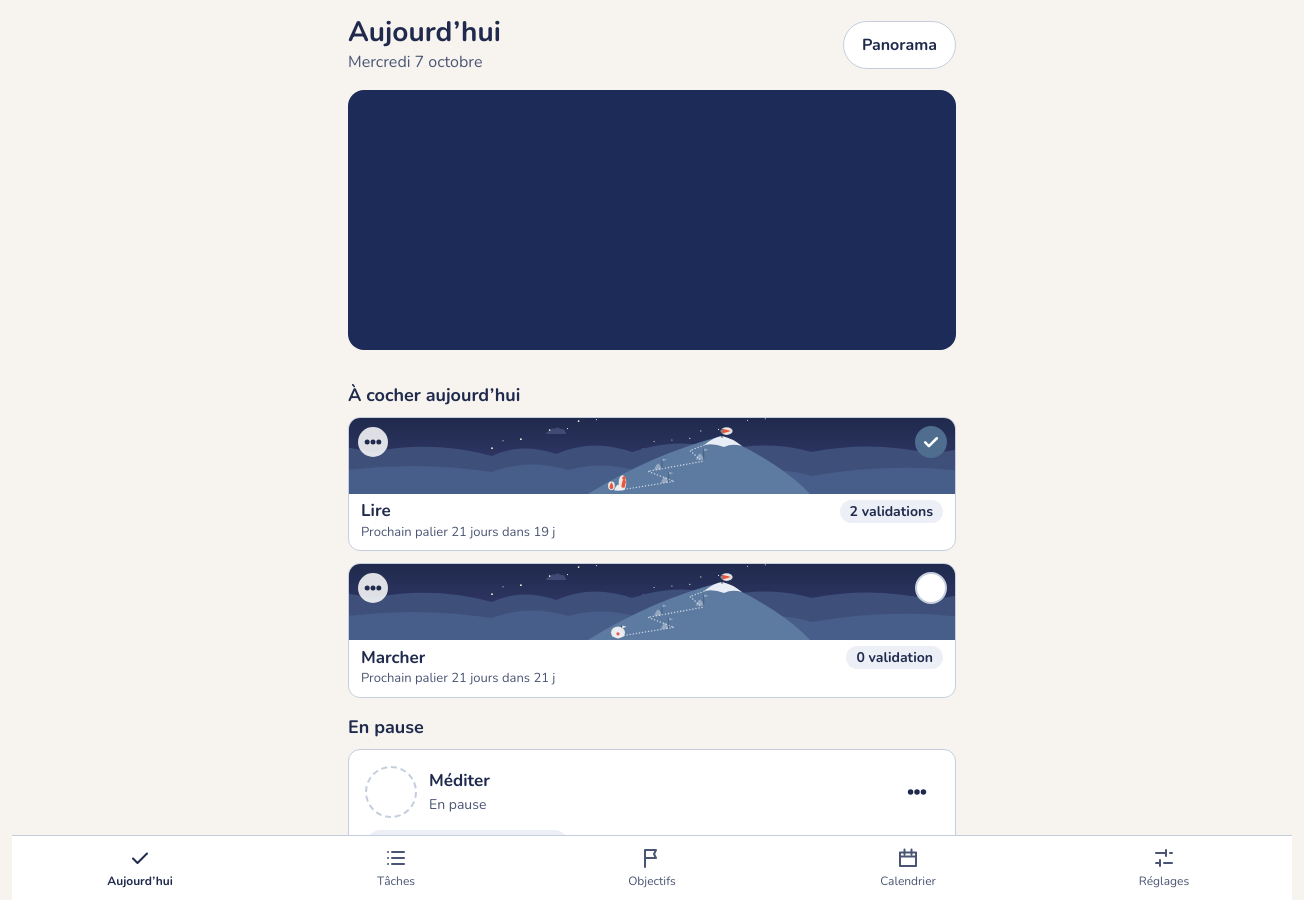
Test case: vue panorama › s’ouvre depuis « Aujourd’hui », montre toutes les habitudes en lecture seule et revient
Expected: the heading "Aujourd’hui" is shown, [348,13,501,51]
Click the button "Panorama" at (899, 45), box [843,21,956,69]
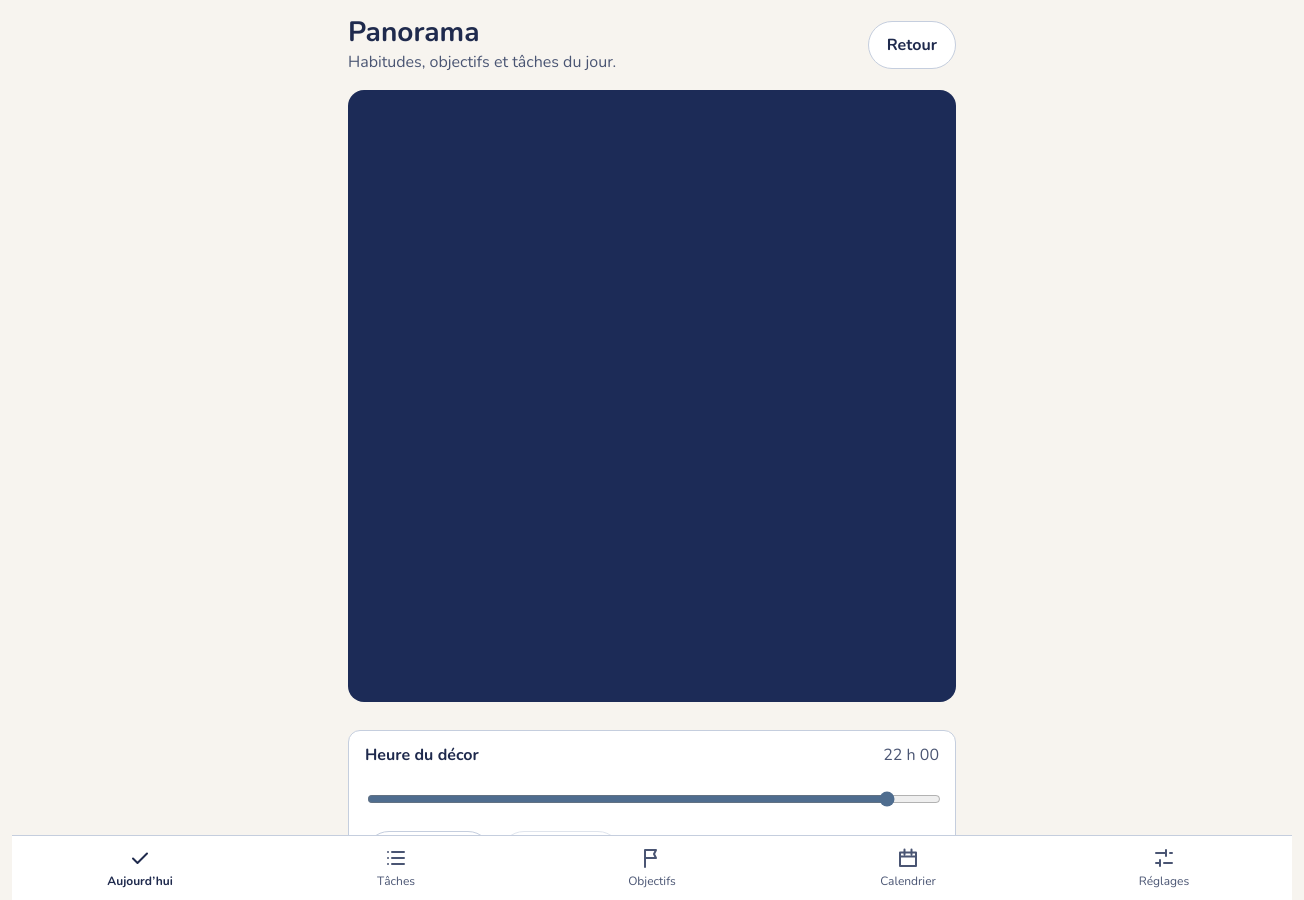
Click the button with aria-label "Retour à Aujourd’hui" at (912, 45), box [868,21,956,69]
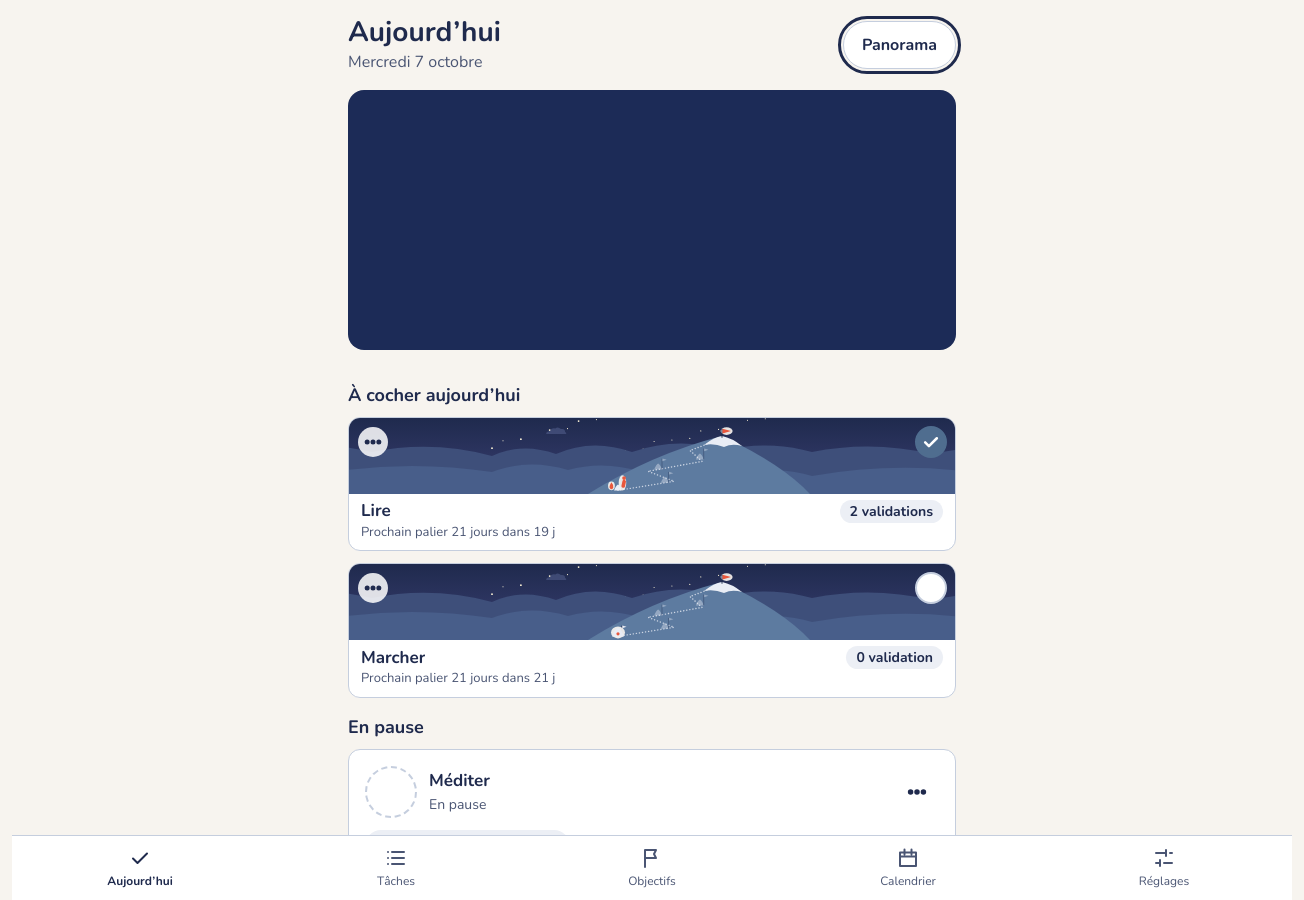
Expected: the heading "Aujourd’hui" is shown, [348,13,501,51]
